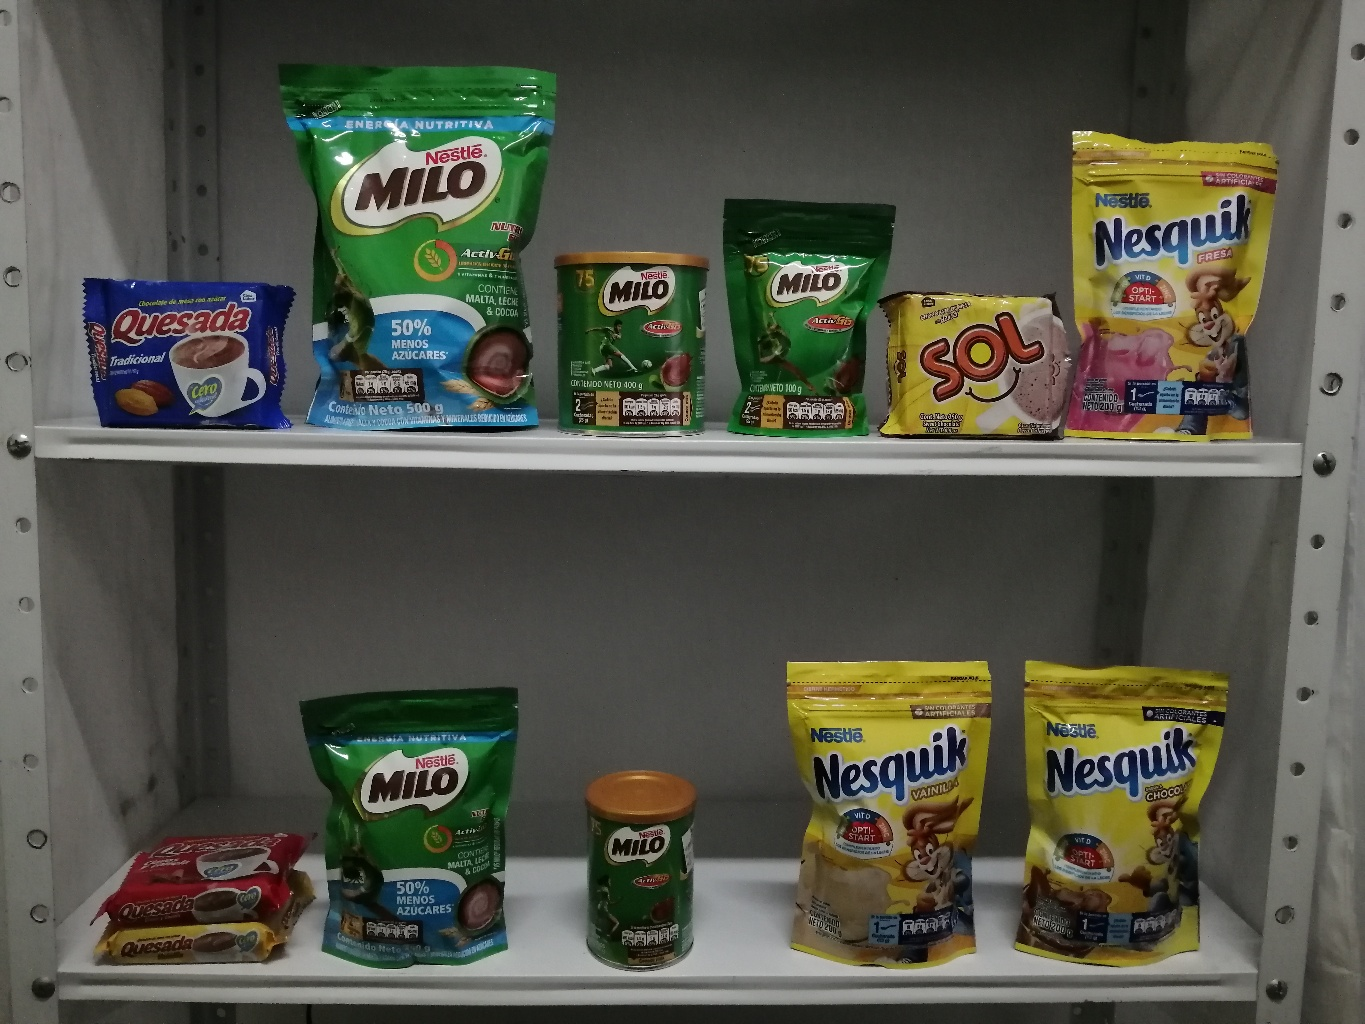COL0170203DYP10000: (715, 191, 897, 441)
COL0170203LAT20000: (569, 760, 712, 977)
COL0170203LAT40000: (556, 245, 714, 447)
COL0170205DYP20000: (294, 679, 530, 975)
COL0170205DYP50000: (276, 57, 555, 432)
COL0170303DYP20000: (1006, 650, 1242, 973)
COL0170305DYP20000: (1053, 120, 1280, 443)
COL0170306DYP20000: (771, 652, 997, 966)
